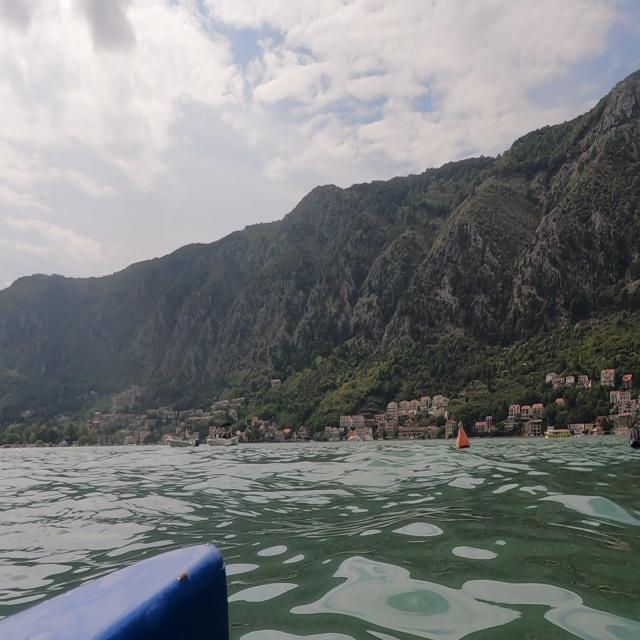boat: (163, 419, 204, 460), (205, 421, 246, 457)
buoy: (452, 419, 476, 461), (624, 423, 640, 457)
